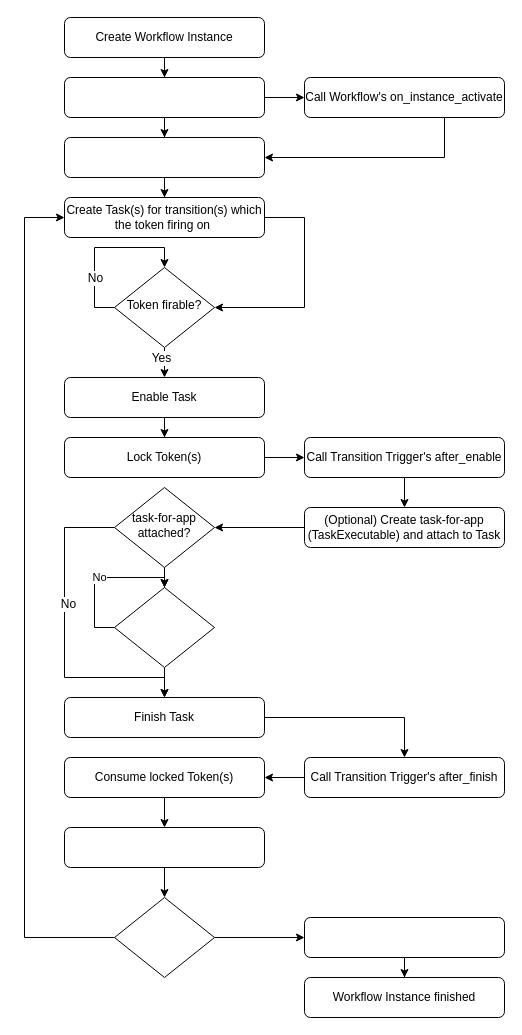
This 522x1035 diagram has some shape labels left out. The centre of each missing label's shape, as x and y in pixels:
"Activate the instance" belongs at point (164, 97).
"Call Workflow's on_instance_finish" belongs at point (404, 937).
"Create first Token on Start Place" belongs at point (164, 157).
"Create Token(s) for next Place(s)" belongs at point (164, 847).
"Token reach End Place?" belongs at point (164, 937).
"Wait task-for-app finished" belongs at point (164, 627).
